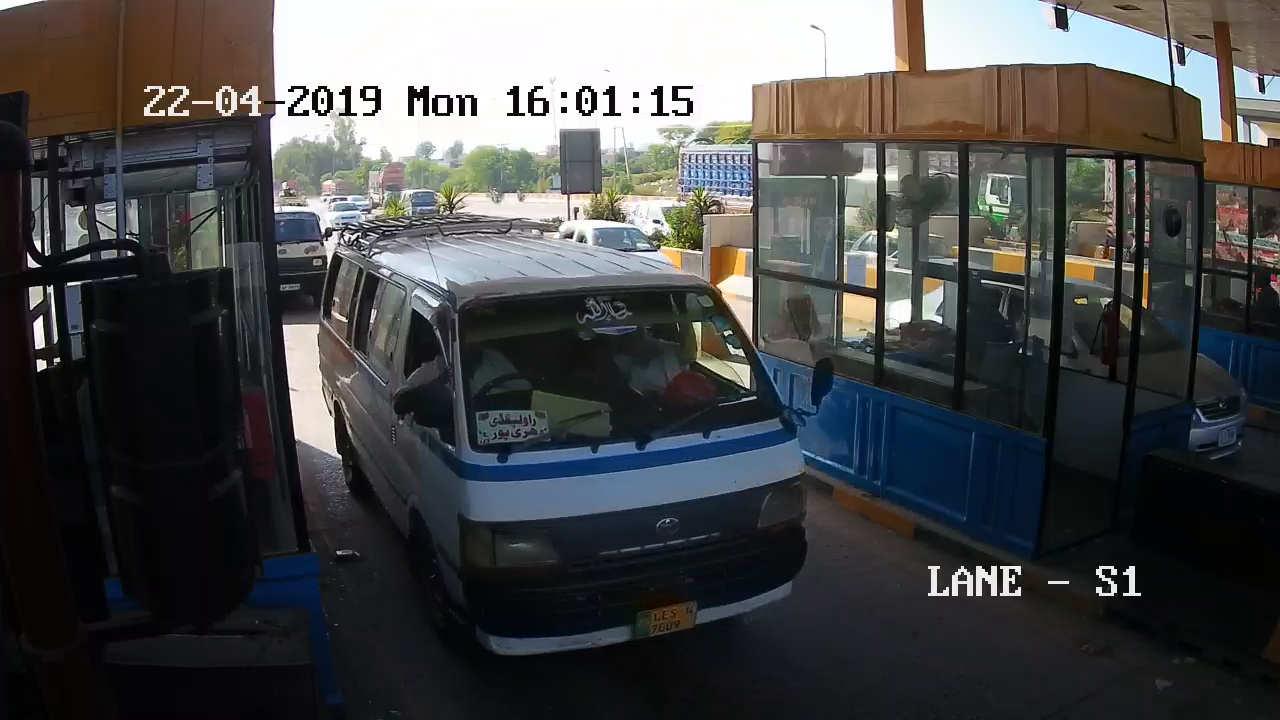car: (316, 198, 834, 685)
